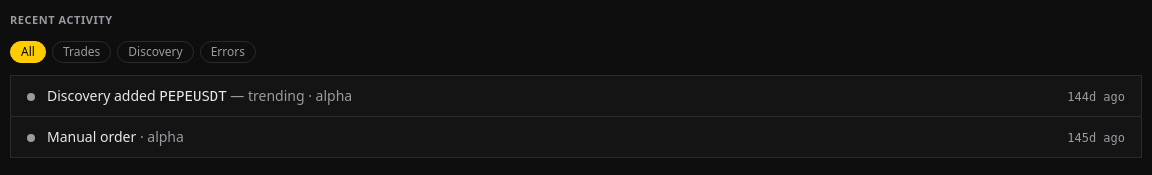
Test case: <ActivityFeed> › merges a discovery cron ADD/REMOVE under the discovery chip and all, not trades
Expected: the text "Discovery added PEPEUSDT — trending" is shown, [47,86,305,104]
Expected: the text "PEPEUSDT" is shown, [159,88,227,104]
Discovery chip: the cron ADD stays (matching the profile page), the trade drops.
Click the tab with test id "activity-filter-discovery".
click(155, 52)  # box [117,40,194,62]
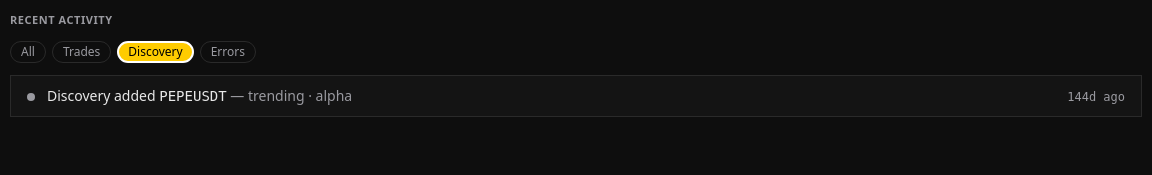
Expected: the text "PEPEUSDT" is shown, [159,88,227,104]
Expected: the text "Manual order" is gone
Trades chip: the discovery cron row is NOT a trade, so it disappears.
Click the tab with test id "activity-filter-trades".
click(82, 52)  # box [52,40,111,62]
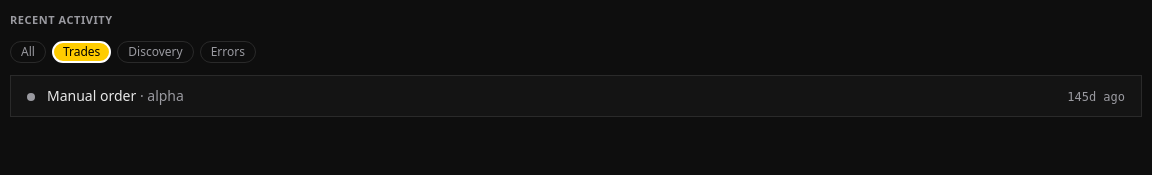
Expected: the text "PEPEUSDT" is gone
Expected: the text "Manual order" is shown, [47,86,136,104]
